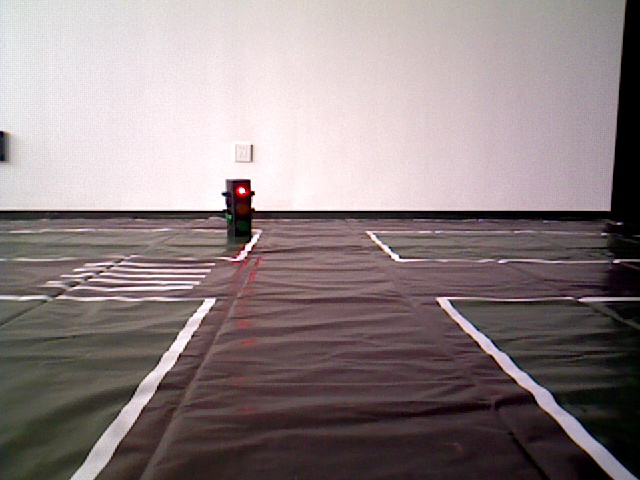red: (223, 184, 253, 240)
